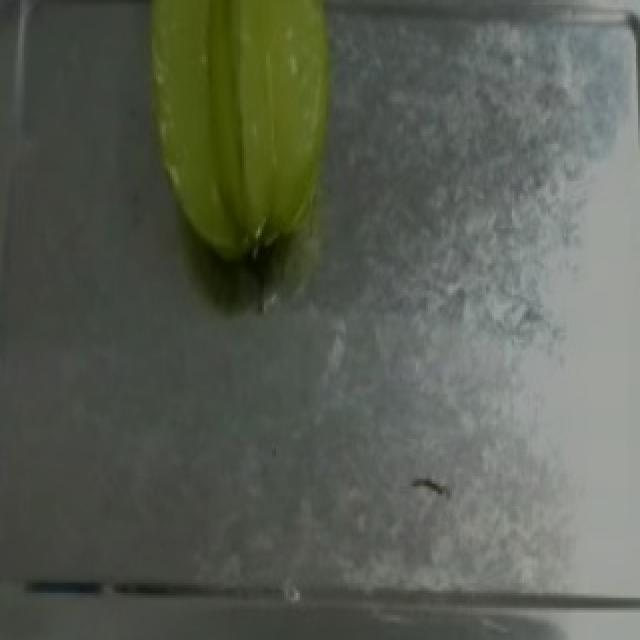fruit: (126, 0, 352, 283)
